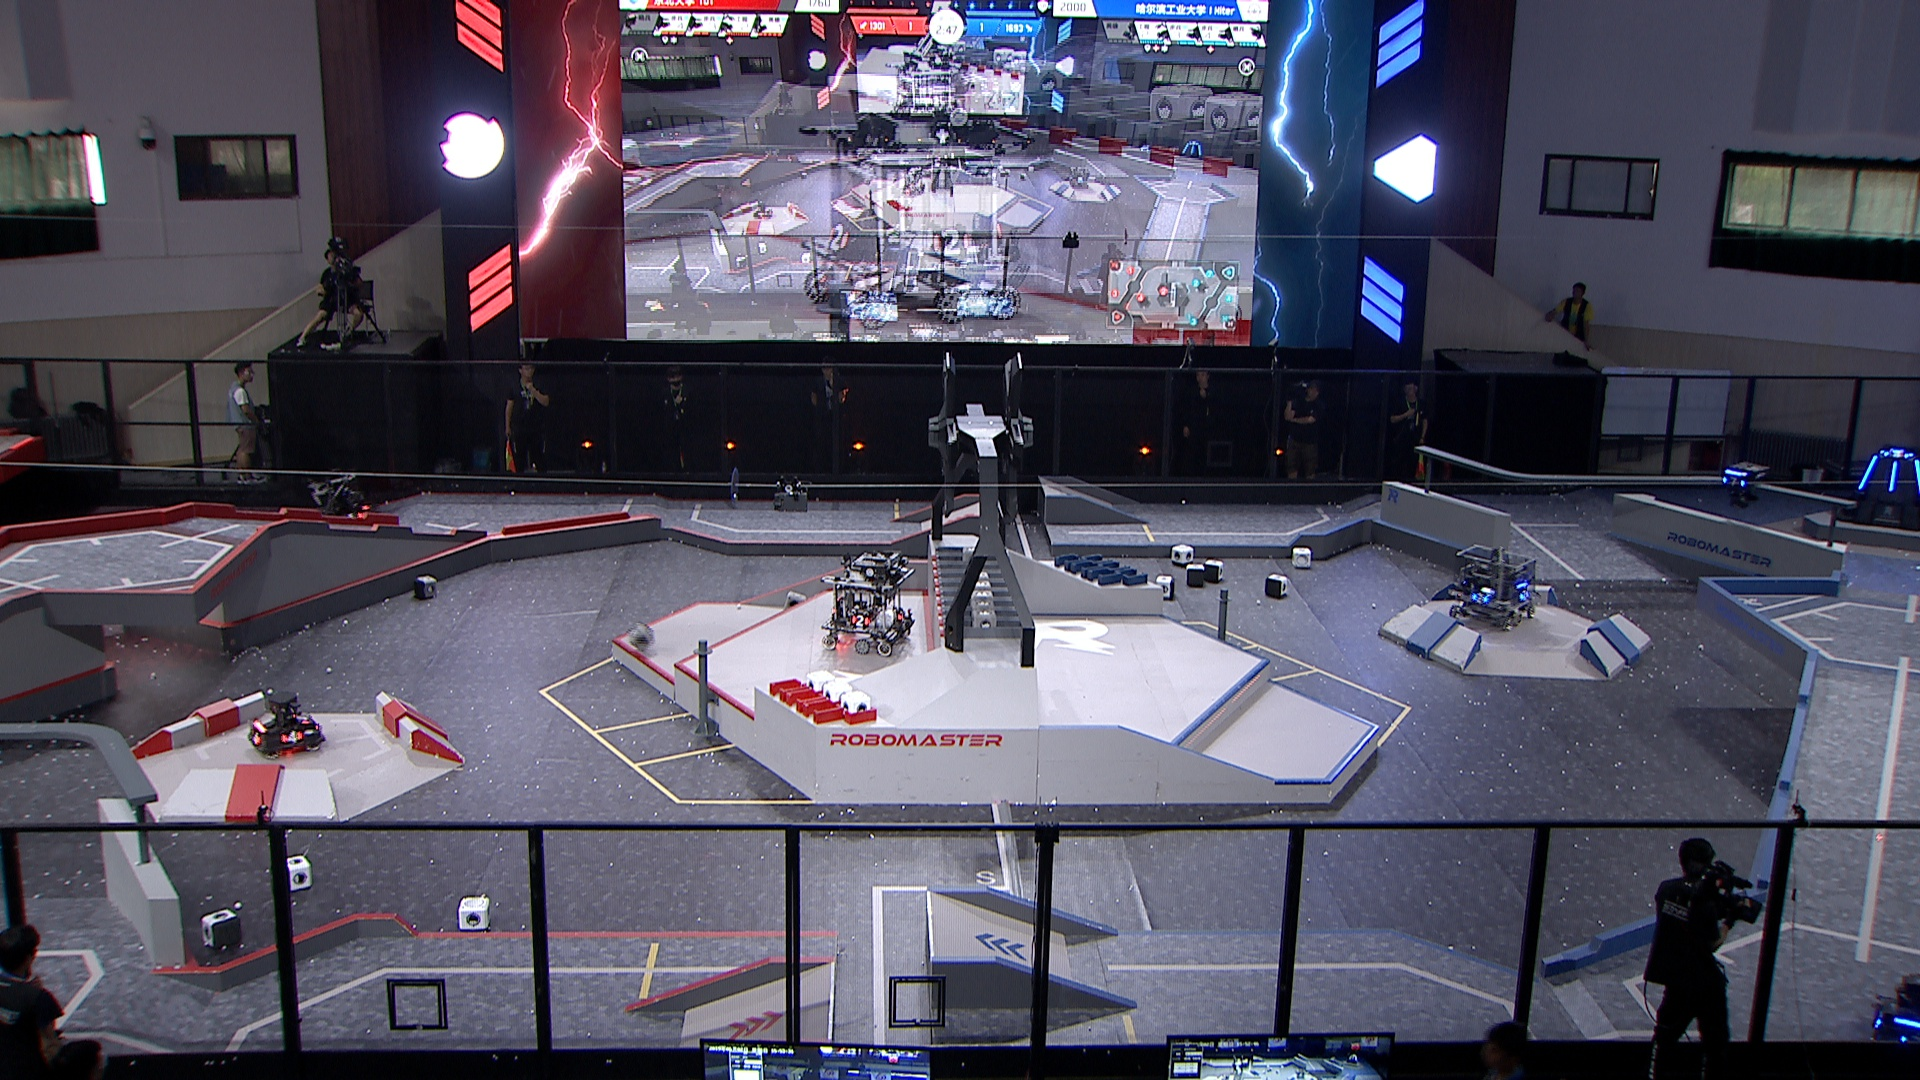armor: (1851, 454, 1879, 491), (1884, 458, 1902, 495), (276, 728, 305, 744), (1722, 473, 1749, 491), (851, 613, 872, 632), (1882, 448, 1913, 460), (1470, 589, 1490, 607), (1911, 456, 1920, 489), (294, 711, 313, 727), (249, 727, 264, 746), (894, 607, 910, 624), (1516, 589, 1531, 603)
base: (1828, 443, 1920, 531)
car: (818, 549, 918, 657), (1447, 541, 1542, 636), (244, 687, 328, 761), (306, 469, 380, 541), (1866, 975, 1920, 1064)
ignore: (790, 117, 1029, 334)
watcher: (1716, 456, 1774, 508)
